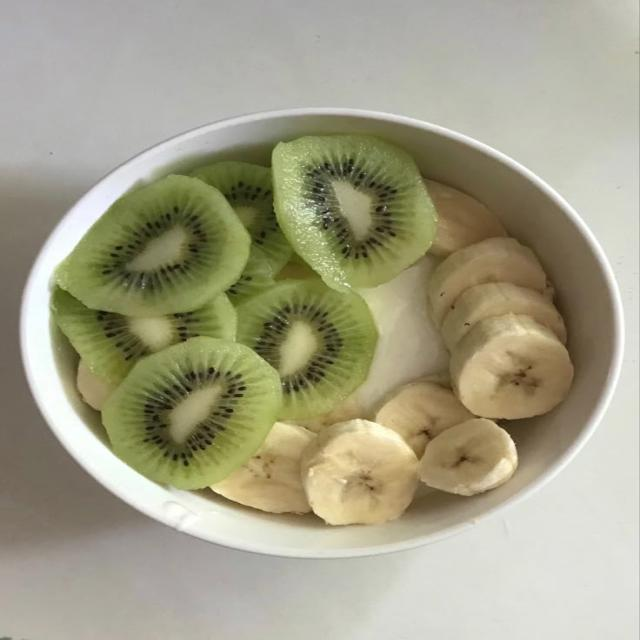banana slice: (450, 315, 573, 419), (301, 420, 417, 525), (428, 238, 546, 328), (211, 423, 314, 513), (441, 283, 566, 350), (375, 380, 473, 457), (419, 419, 518, 495), (425, 179, 506, 257), (292, 395, 366, 433), (77, 360, 115, 411), (423, 370, 451, 389)
kiwi: (56, 175, 250, 316), (102, 337, 281, 489), (272, 134, 435, 288), (237, 280, 377, 418), (51, 288, 234, 384), (192, 161, 290, 269), (226, 245, 275, 305)
